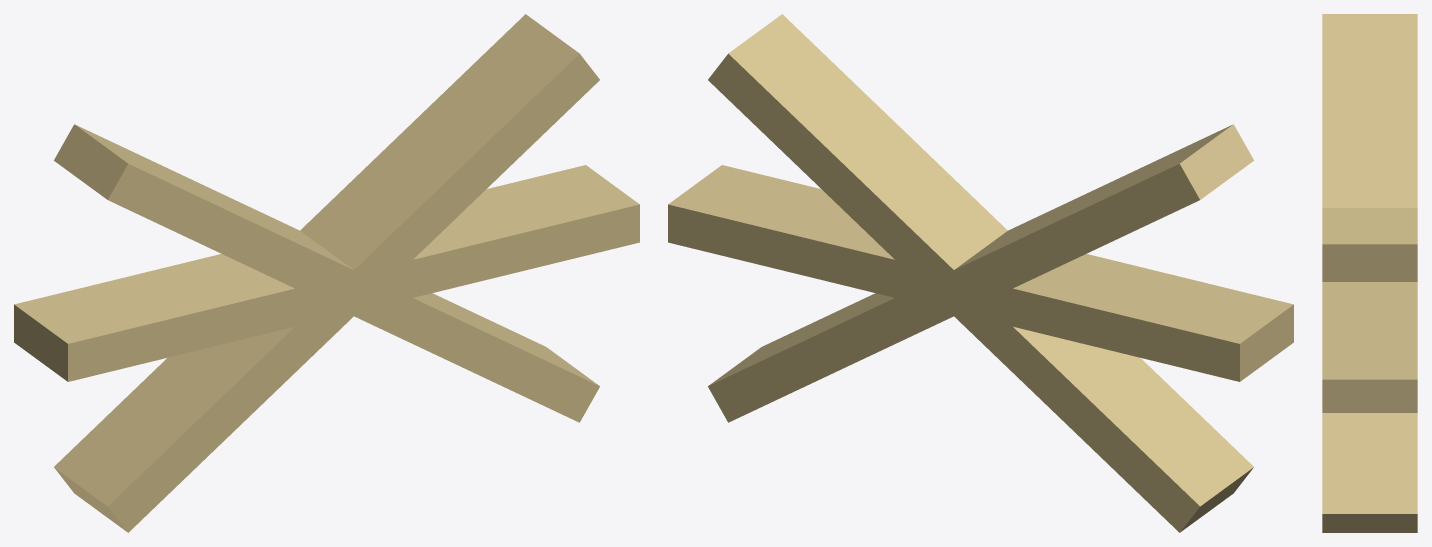
Rendered from star_frame.glb.
The picture shows the model from 3 angles, left to right: view 1: azimuth 30°, elevation 25°; view 2: azimuth 150°, elevation 25°; view 3: azimuth 270°, elevation 25°; orthographic projection. The views are drawn at different scales.
Visible parts, largest first — view 1: world; view 2: world; view 3: world.
Boxes of the visible parts, x1,y1,x2,y2 form: world: (14,14,639,532); world: (668,14,1293,532); world: (1322,14,1417,532).
Bounding box in the file's own units: 2.2 × 1.36 × 0.36.
